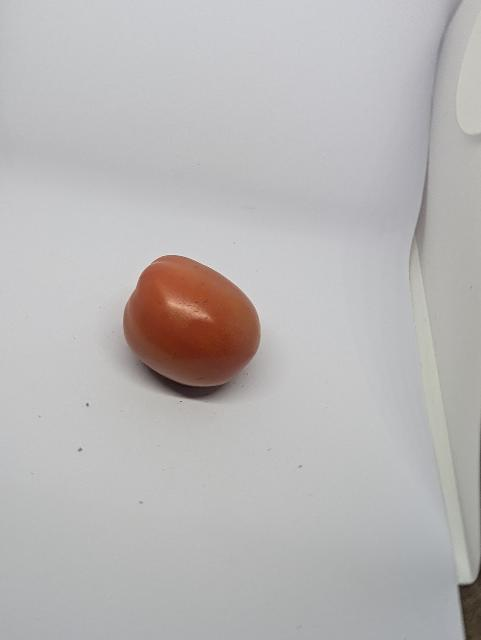turning: (121, 253, 263, 392)
